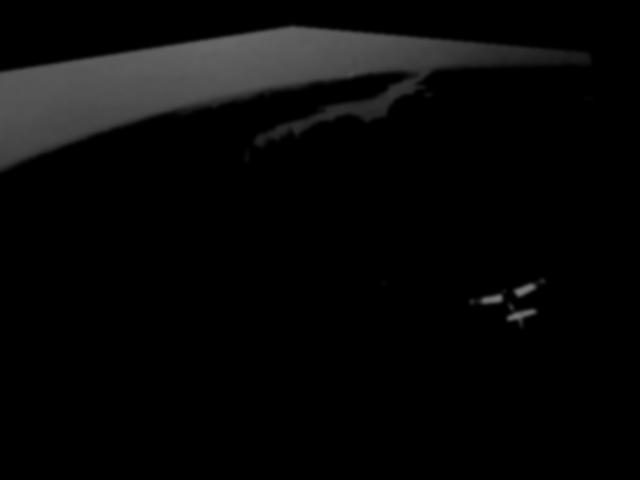hedef: (467, 261, 561, 332)
